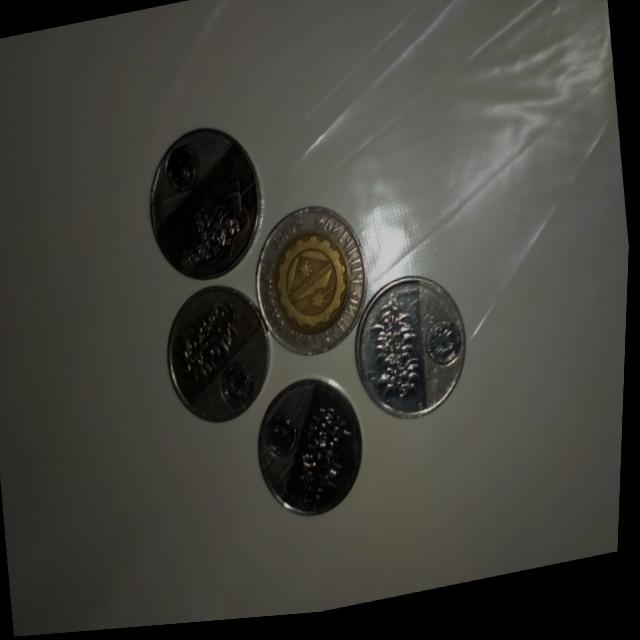10_New_Back: (162, 175, 264, 287)
10_Old_Back: (250, 194, 377, 368)
5_New_Back: (352, 286, 433, 418)
